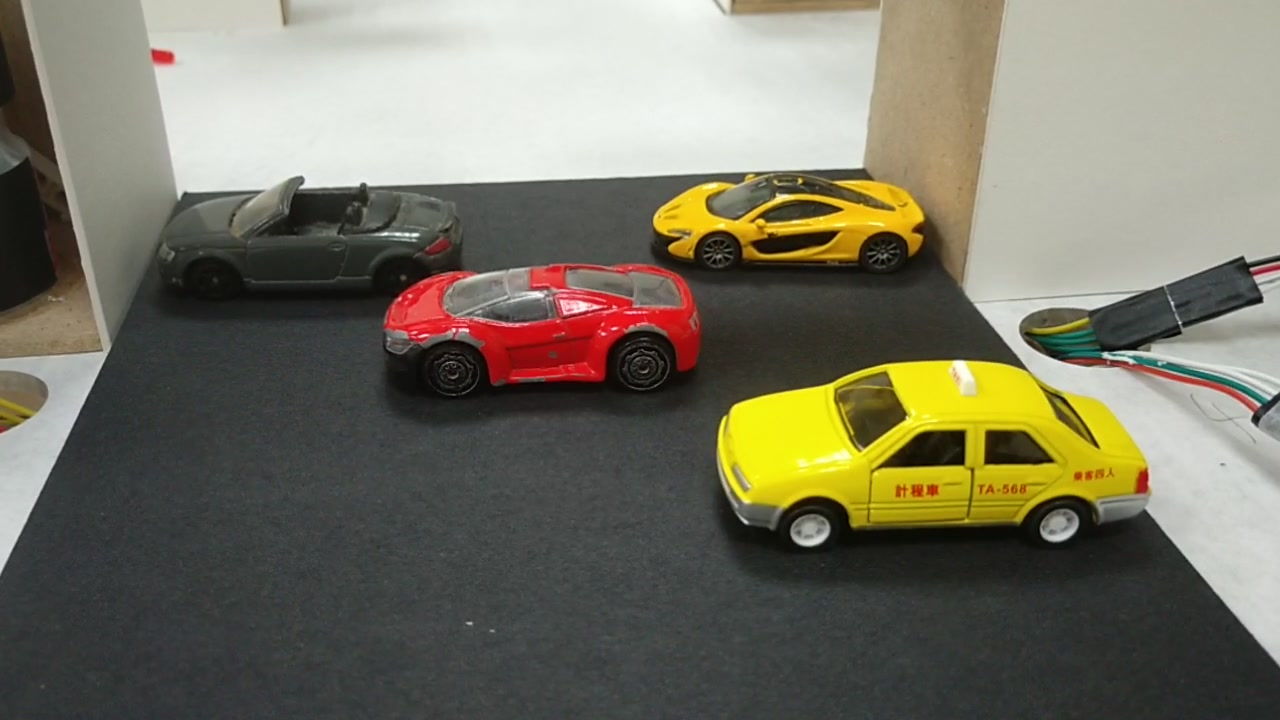car: (702, 370, 1154, 531), (383, 265, 698, 386), (159, 195, 465, 289), (646, 174, 926, 264)
